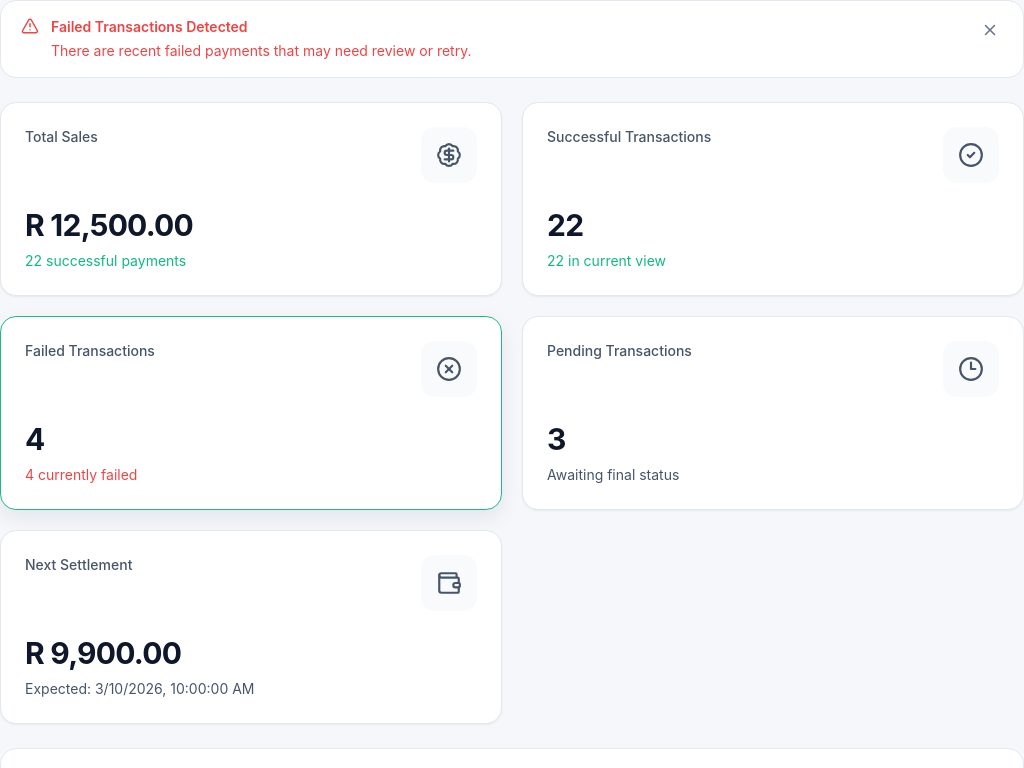
Test: DashboardPage › dismisses the failure alert when close is clicked
Expected: the heading "Failed Transactions Detected" is shown, [51, 18, 248, 35]
Click the button named "dismiss".
click(990, 30)  # box [977, 17, 1003, 43]
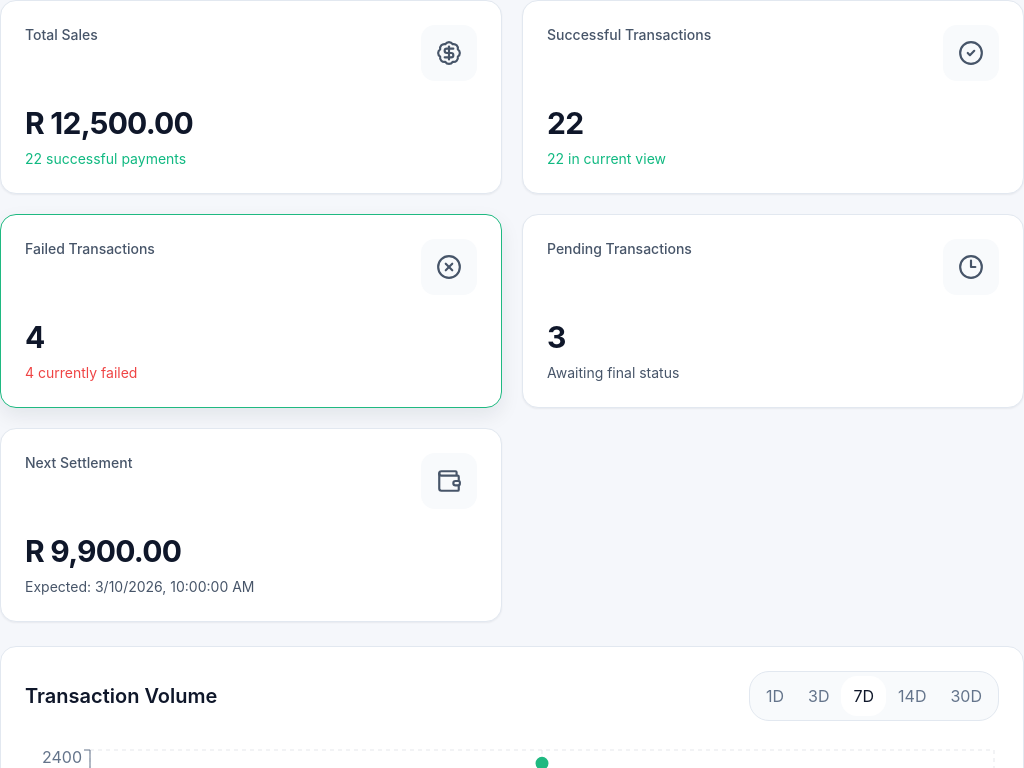
Now the heading "Failed Transactions Detected" is gone
